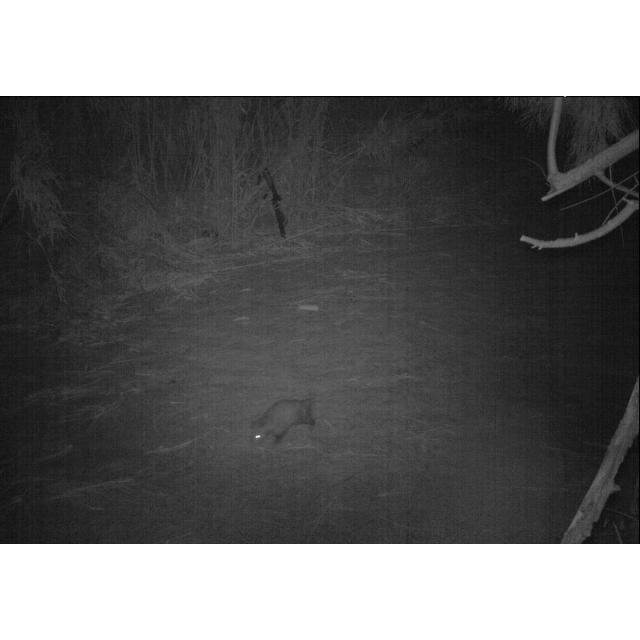animals: (248, 396, 318, 448)
